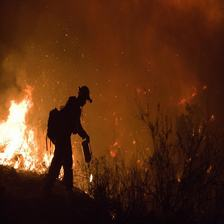fire: (3, 66, 58, 180)
